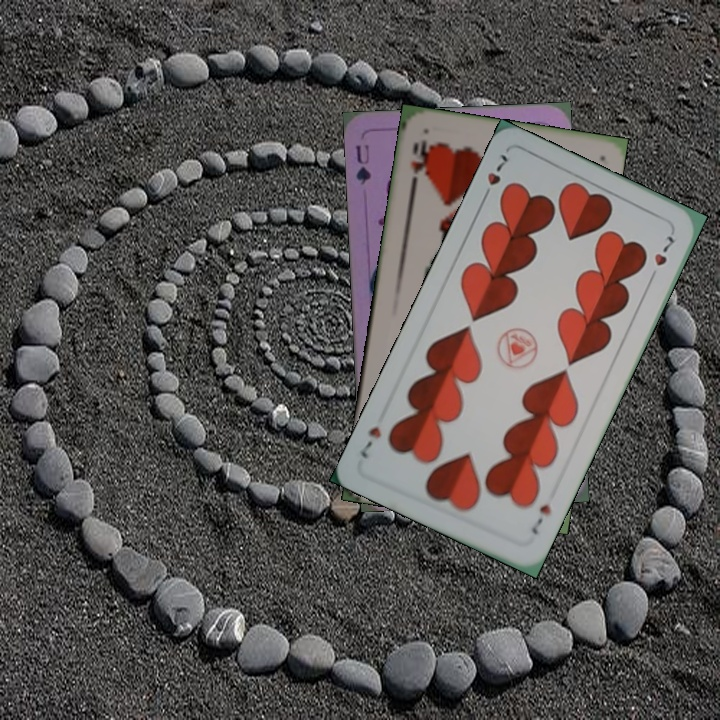GU: (351, 140, 373, 187)
H7: (477, 150, 510, 204), (527, 500, 554, 537)
HO: (406, 136, 430, 191)
